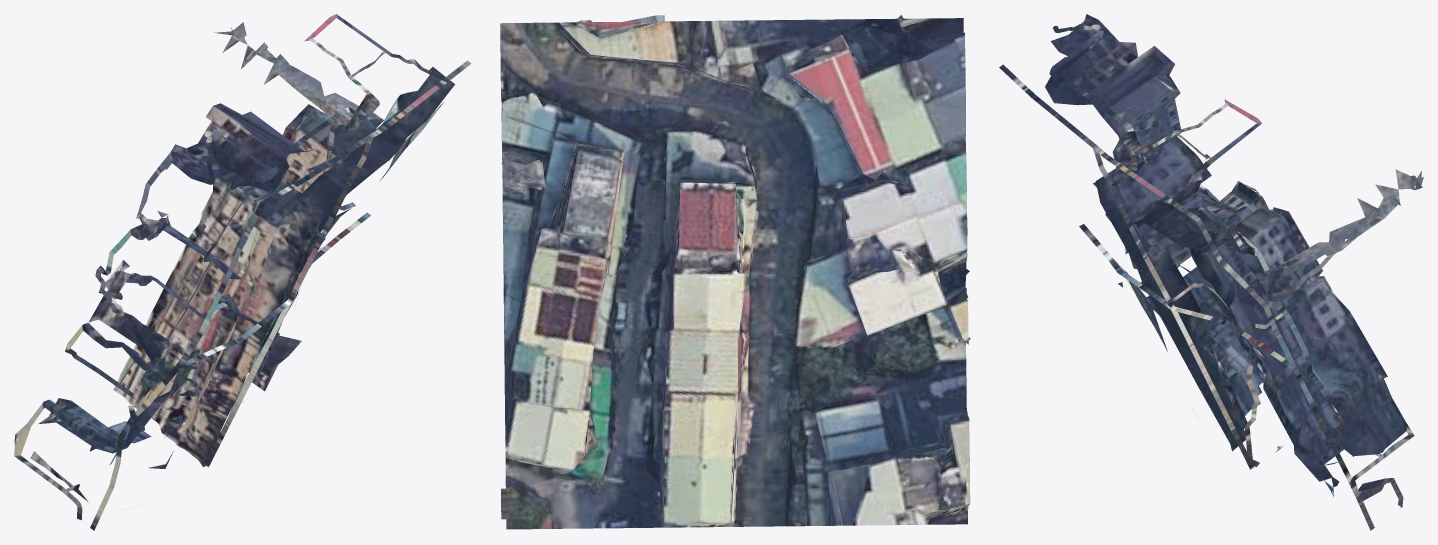
3 views of the same model, side by side, from view 1: azimuth 30°, elevation 25°; view 2: azimuth 150°, elevation 25°; view 3: azimuth 270°, elevation 25° (orthographic). The views are drawn at different scales.
Bounding box in the file's own units: 85.79 × 78.65 × 73.36.
Materials: 1 (1 with a texture image).
